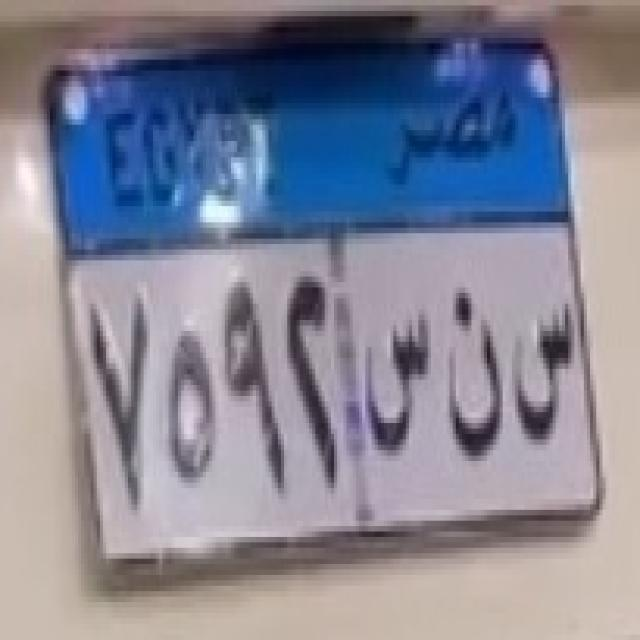2: (280, 266, 340, 500)
5: (159, 316, 226, 492)
7: (71, 288, 164, 528)
9: (226, 282, 292, 504)
Noon: (442, 274, 510, 470)
Seen: (361, 288, 436, 470), (507, 284, 580, 466)
